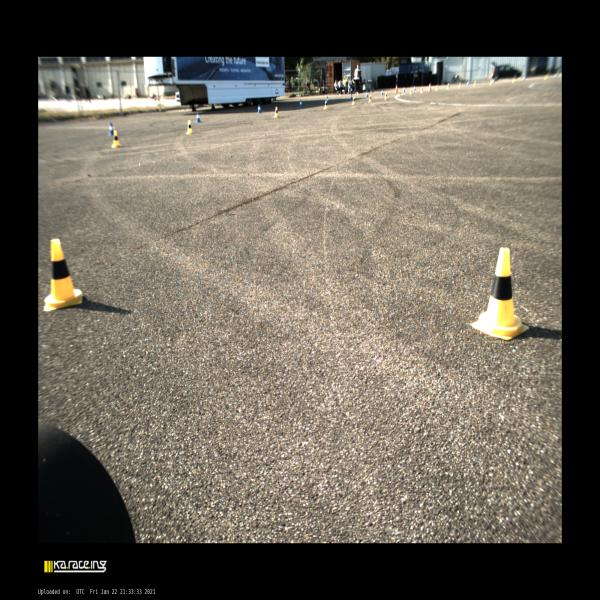blue_cone: (196, 111, 201, 123), (109, 122, 113, 135), (257, 104, 262, 114), (299, 99, 302, 108), (350, 93, 353, 100), (327, 96, 329, 104), (366, 92, 368, 98), (381, 90, 383, 95), (403, 87, 405, 92)
large_orange_cone: (395, 84, 398, 94), (428, 83, 431, 92)
yellow_cone: (471, 248, 528, 340), (44, 240, 82, 312), (111, 131, 121, 148), (186, 120, 193, 134), (273, 107, 279, 117), (324, 100, 328, 110), (368, 95, 372, 102), (352, 96, 355, 105), (385, 92, 388, 100), (398, 90, 401, 96), (420, 87, 423, 93), (410, 88, 412, 94)
